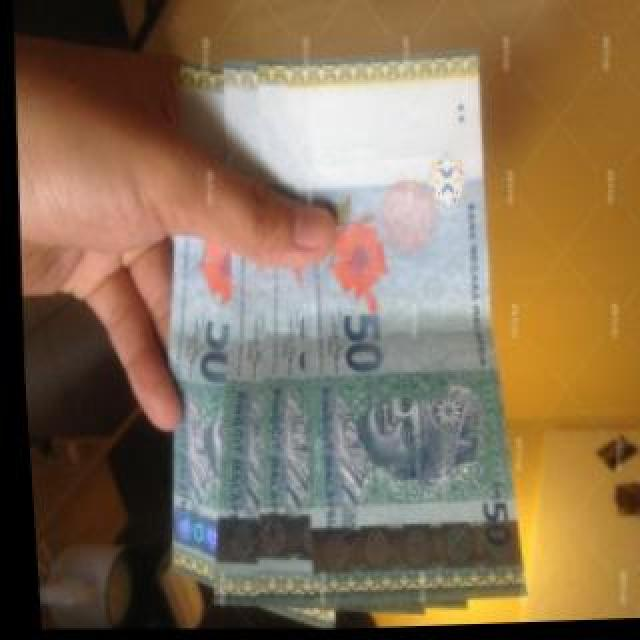50 Ringgit: (280, 40, 534, 615)
